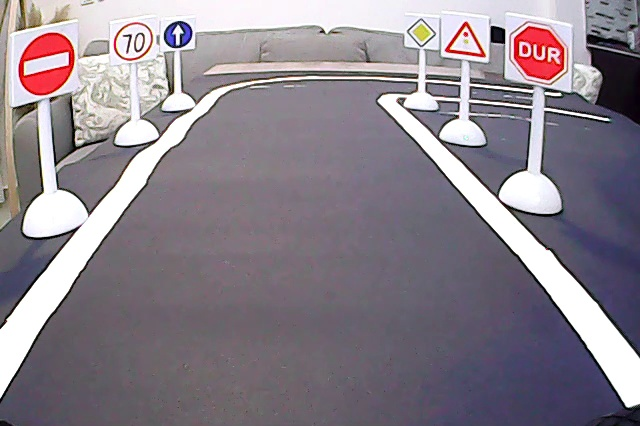do not enter: (14, 29, 80, 99)
red light: (447, 20, 486, 62)
speed limit 70: (114, 22, 154, 62)
stop sign: (511, 17, 567, 87)
